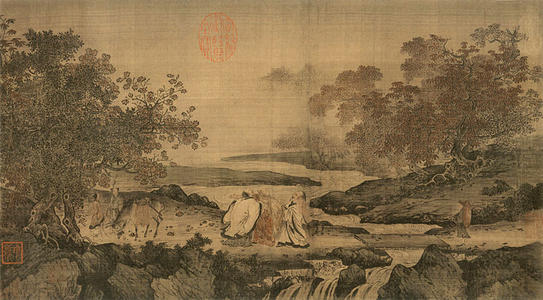cow: (92, 195, 179, 240)
creek: (188, 139, 521, 256)
man: (274, 187, 308, 250), (225, 182, 257, 246), (87, 185, 105, 228), (105, 182, 125, 219)
tree: (4, 18, 200, 234), (314, 26, 543, 178)
waterfall: (270, 256, 424, 300)
